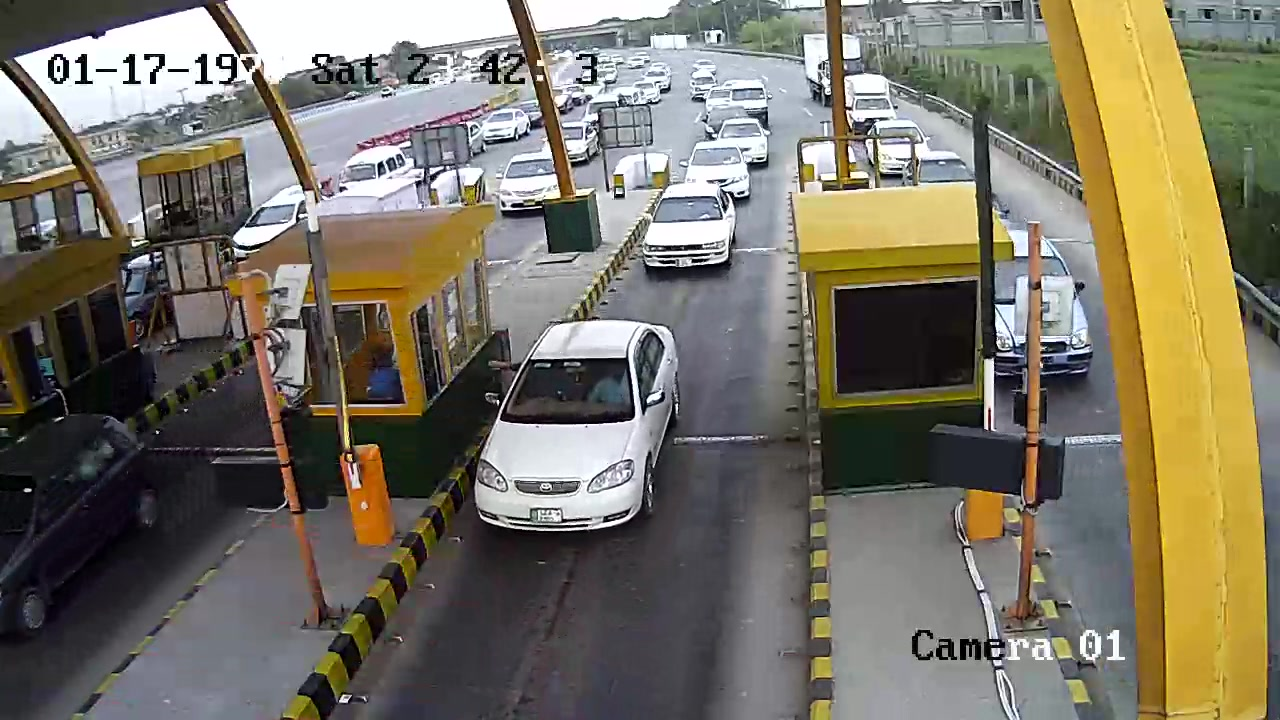F1: (463, 307, 703, 546)
